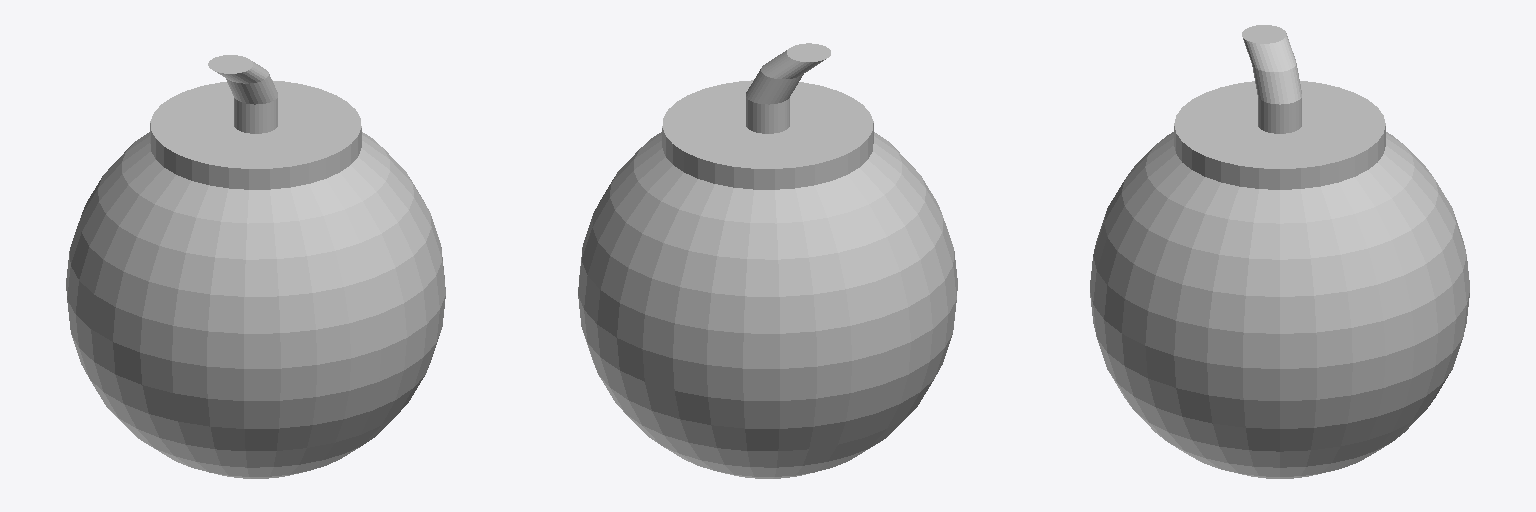
Rendered from bomba.obj.
3 renders of one model, left to right at view 1: azimuth 30°, elevation 25°; view 2: azimuth 150°, elevation 25°; view 3: azimuth 270°, elevation 25°, orthographic.
Parts seen in each view (by area): view 1: Sphere; view 2: Sphere; view 3: Sphere.
Part boxes in pixels (x1,y1,x2,y2): Sphere: (66,55,445,478); Sphere: (578,43,957,478); Sphere: (1090,25,1469,478).
Size of the model in its own units: 2 by 2.38 by 2.